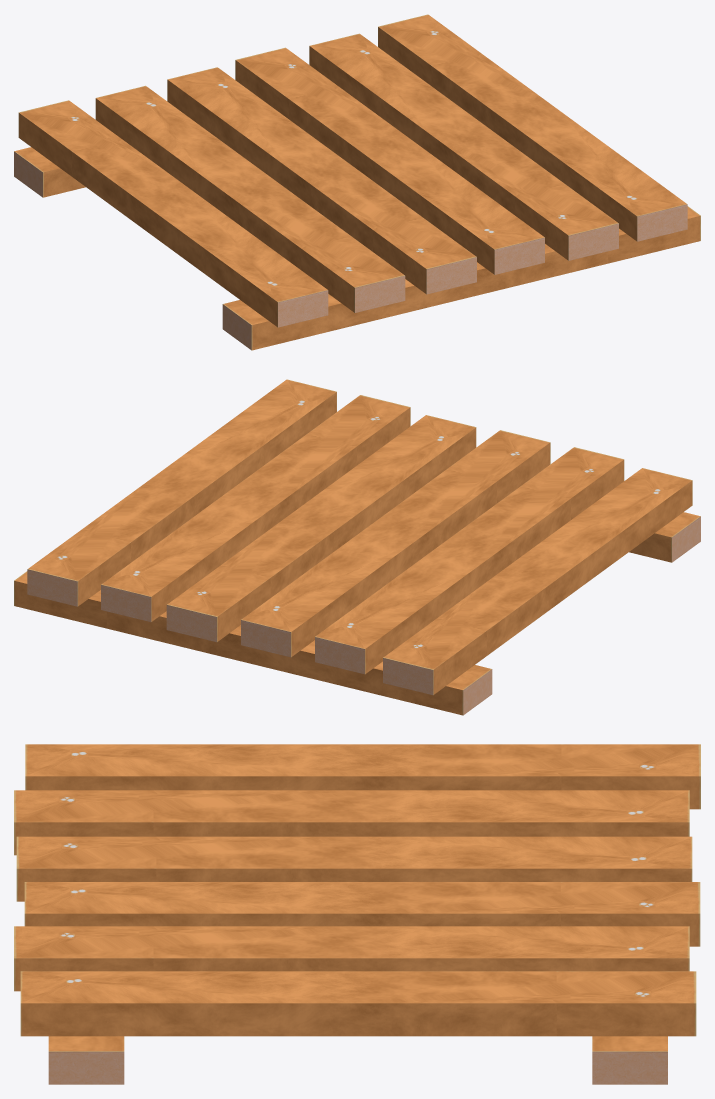
Rendered from BrokenPallet_3.fbx.
3 renders of one model, top to bottom at view 1: azimuth 30°, elevation 25°; view 2: azimuth 150°, elevation 25°; view 3: azimuth 270°, elevation 25°, orthographic. The views are drawn at different scales.
Visible parts, largest first — view 1: PalletCube_9, PalletCube_10; view 2: PalletCube_10, PalletCube_9; view 3: PalletCube_9, PalletCube_10.
Part boxes in pixels (box(x1,y1,x2,y2)): PalletCube_9: box(118, 110, 700, 350); PalletCube_10: box(14, 14, 558, 210); PalletCube_10: box(14, 474, 532, 715); PalletCube_9: box(158, 379, 700, 621); PalletCube_9: box(14, 744, 441, 1084); PalletCube_10: box(356, 744, 700, 1084).
Size of the model in its own units: 0.9842 by 0.1058 by 1.
